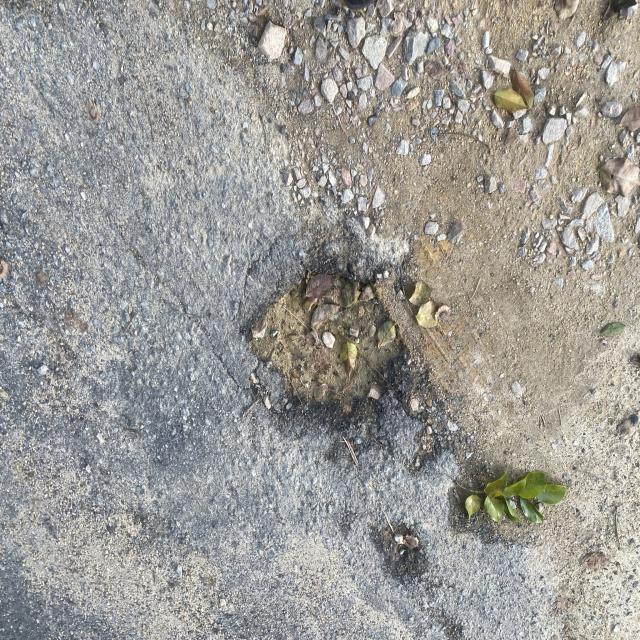Pothole: (217, 231, 417, 468)
